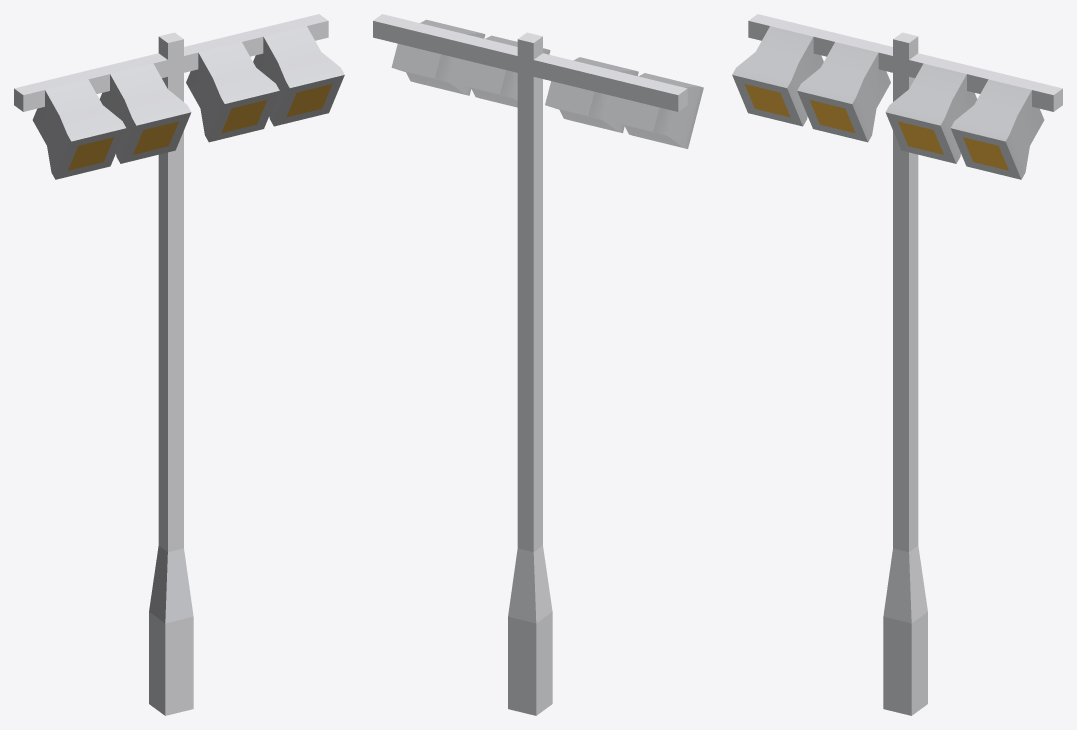
Rendered from lightPostLarge.glb.
3 views of the same model, side by side, from view 1: azimuth 30°, elevation 25°; view 2: azimuth 150°, elevation 25°; view 3: azimuth 330°, elevation 25° (orthographic).
Parts seen in each view (by area): view 1: lightPostLarge; view 2: lightPostLarge; view 3: lightPostLarge.
Part boxes in pixels (x1,y1,x2,y2): lightPostLarge: [14, 14, 344, 715]; lightPostLarge: [373, 14, 703, 715]; lightPostLarge: [732, 14, 1062, 715].
Size of the model in its own units: 0.38 by 0.7957 by 0.0971.
